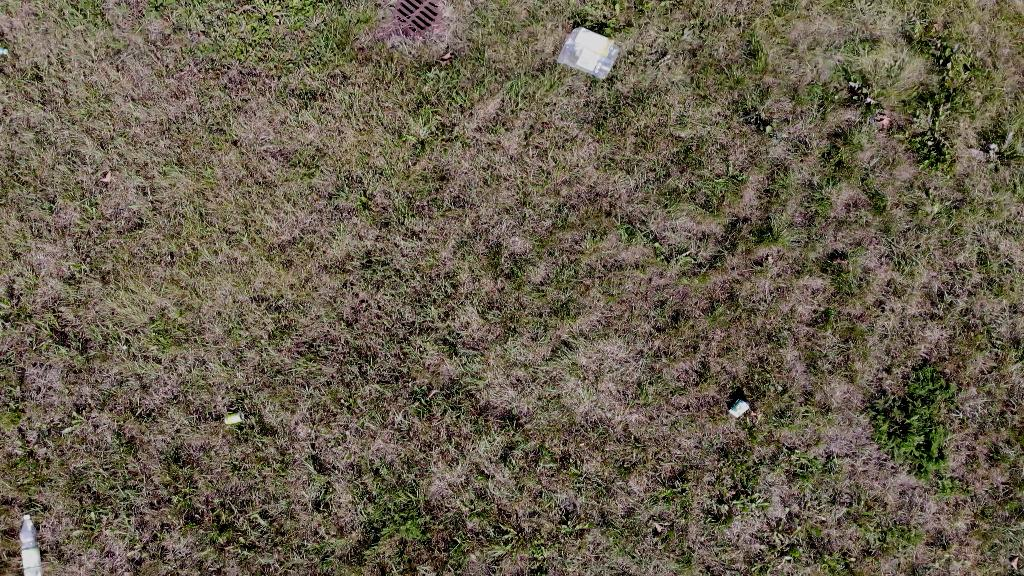garbage: (556, 22, 618, 81), (18, 513, 45, 576)
